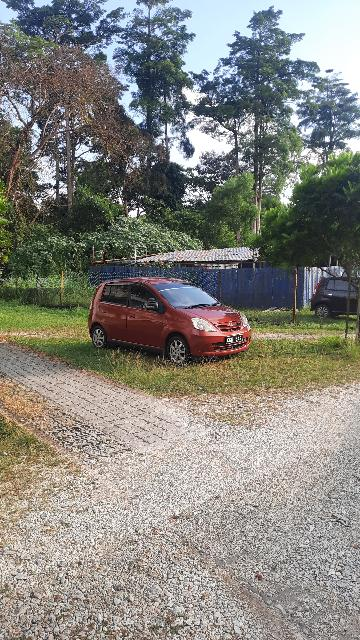License_Plate: (225, 334, 248, 346)
car: (87, 278, 255, 363)
